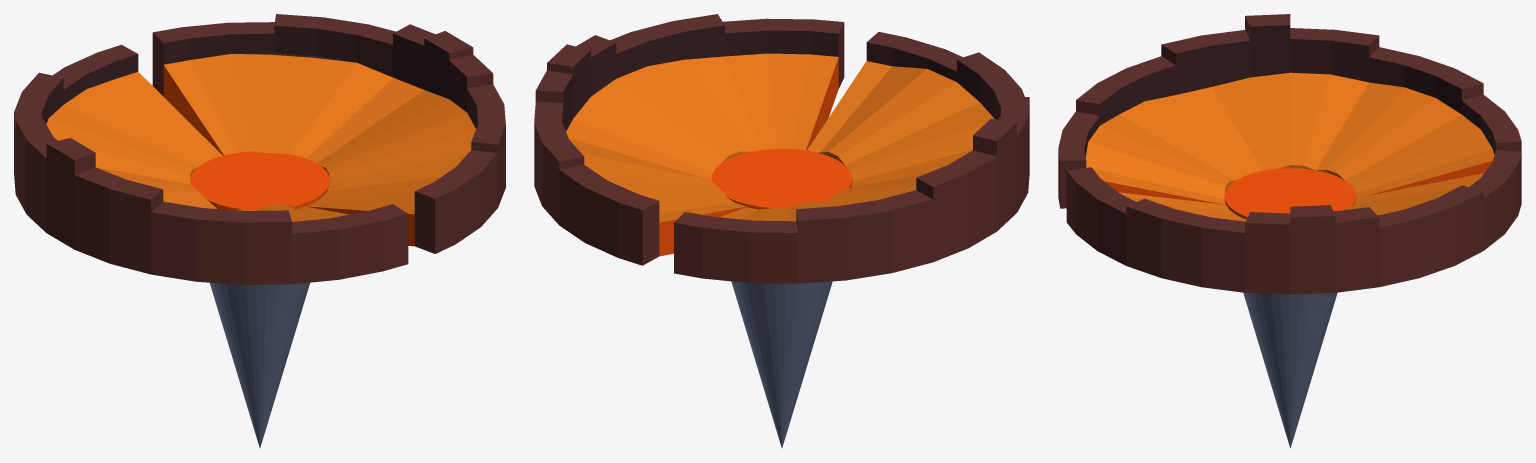
Rendered from Torch.fbx.
The picture shows the model from 3 angles, left to right: view 1: azimuth 30°, elevation 25°; view 2: azimuth 150°, elevation 25°; view 3: azimuth 270°, elevation 25°; orthographic projection. The views are drawn at different scales.
Visible parts, largest first — view 1: Cone; view 2: Cone; view 3: Cone.
Boxes of the visible parts, <box> form: Cone: <box>14,14,505,447</box>; Cone: <box>534,14,1029,447</box>; Cone: <box>1058,14,1521,448</box>.
Bounding box in the file's own units: 1519 × 1215 × 1516.
